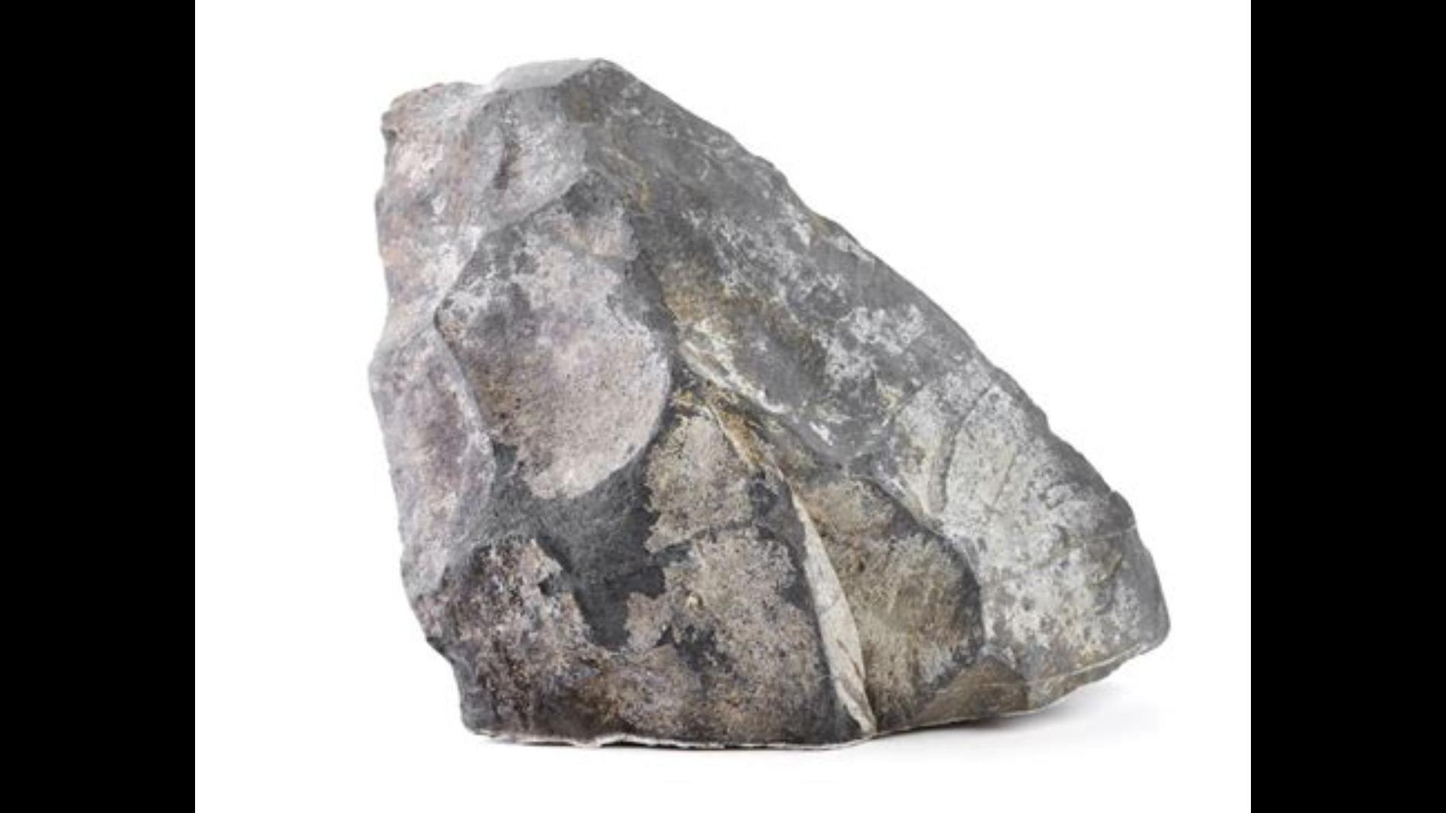rock: (371, 62, 1162, 739)
